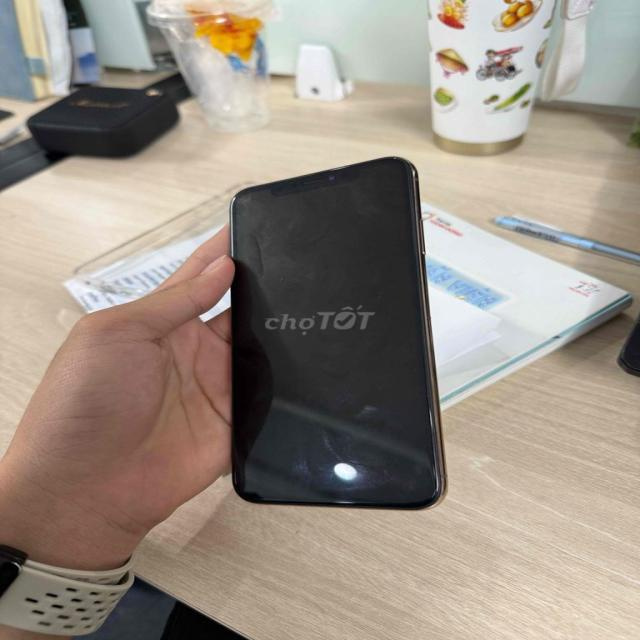gen_x_xs: (216, 152, 456, 518)
